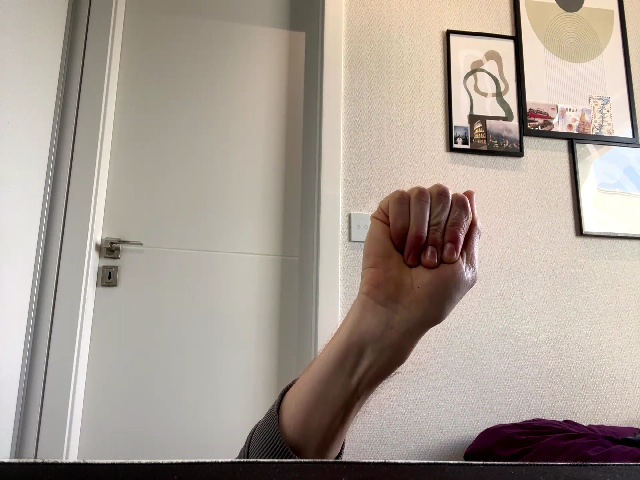A: (359, 184, 480, 329)
